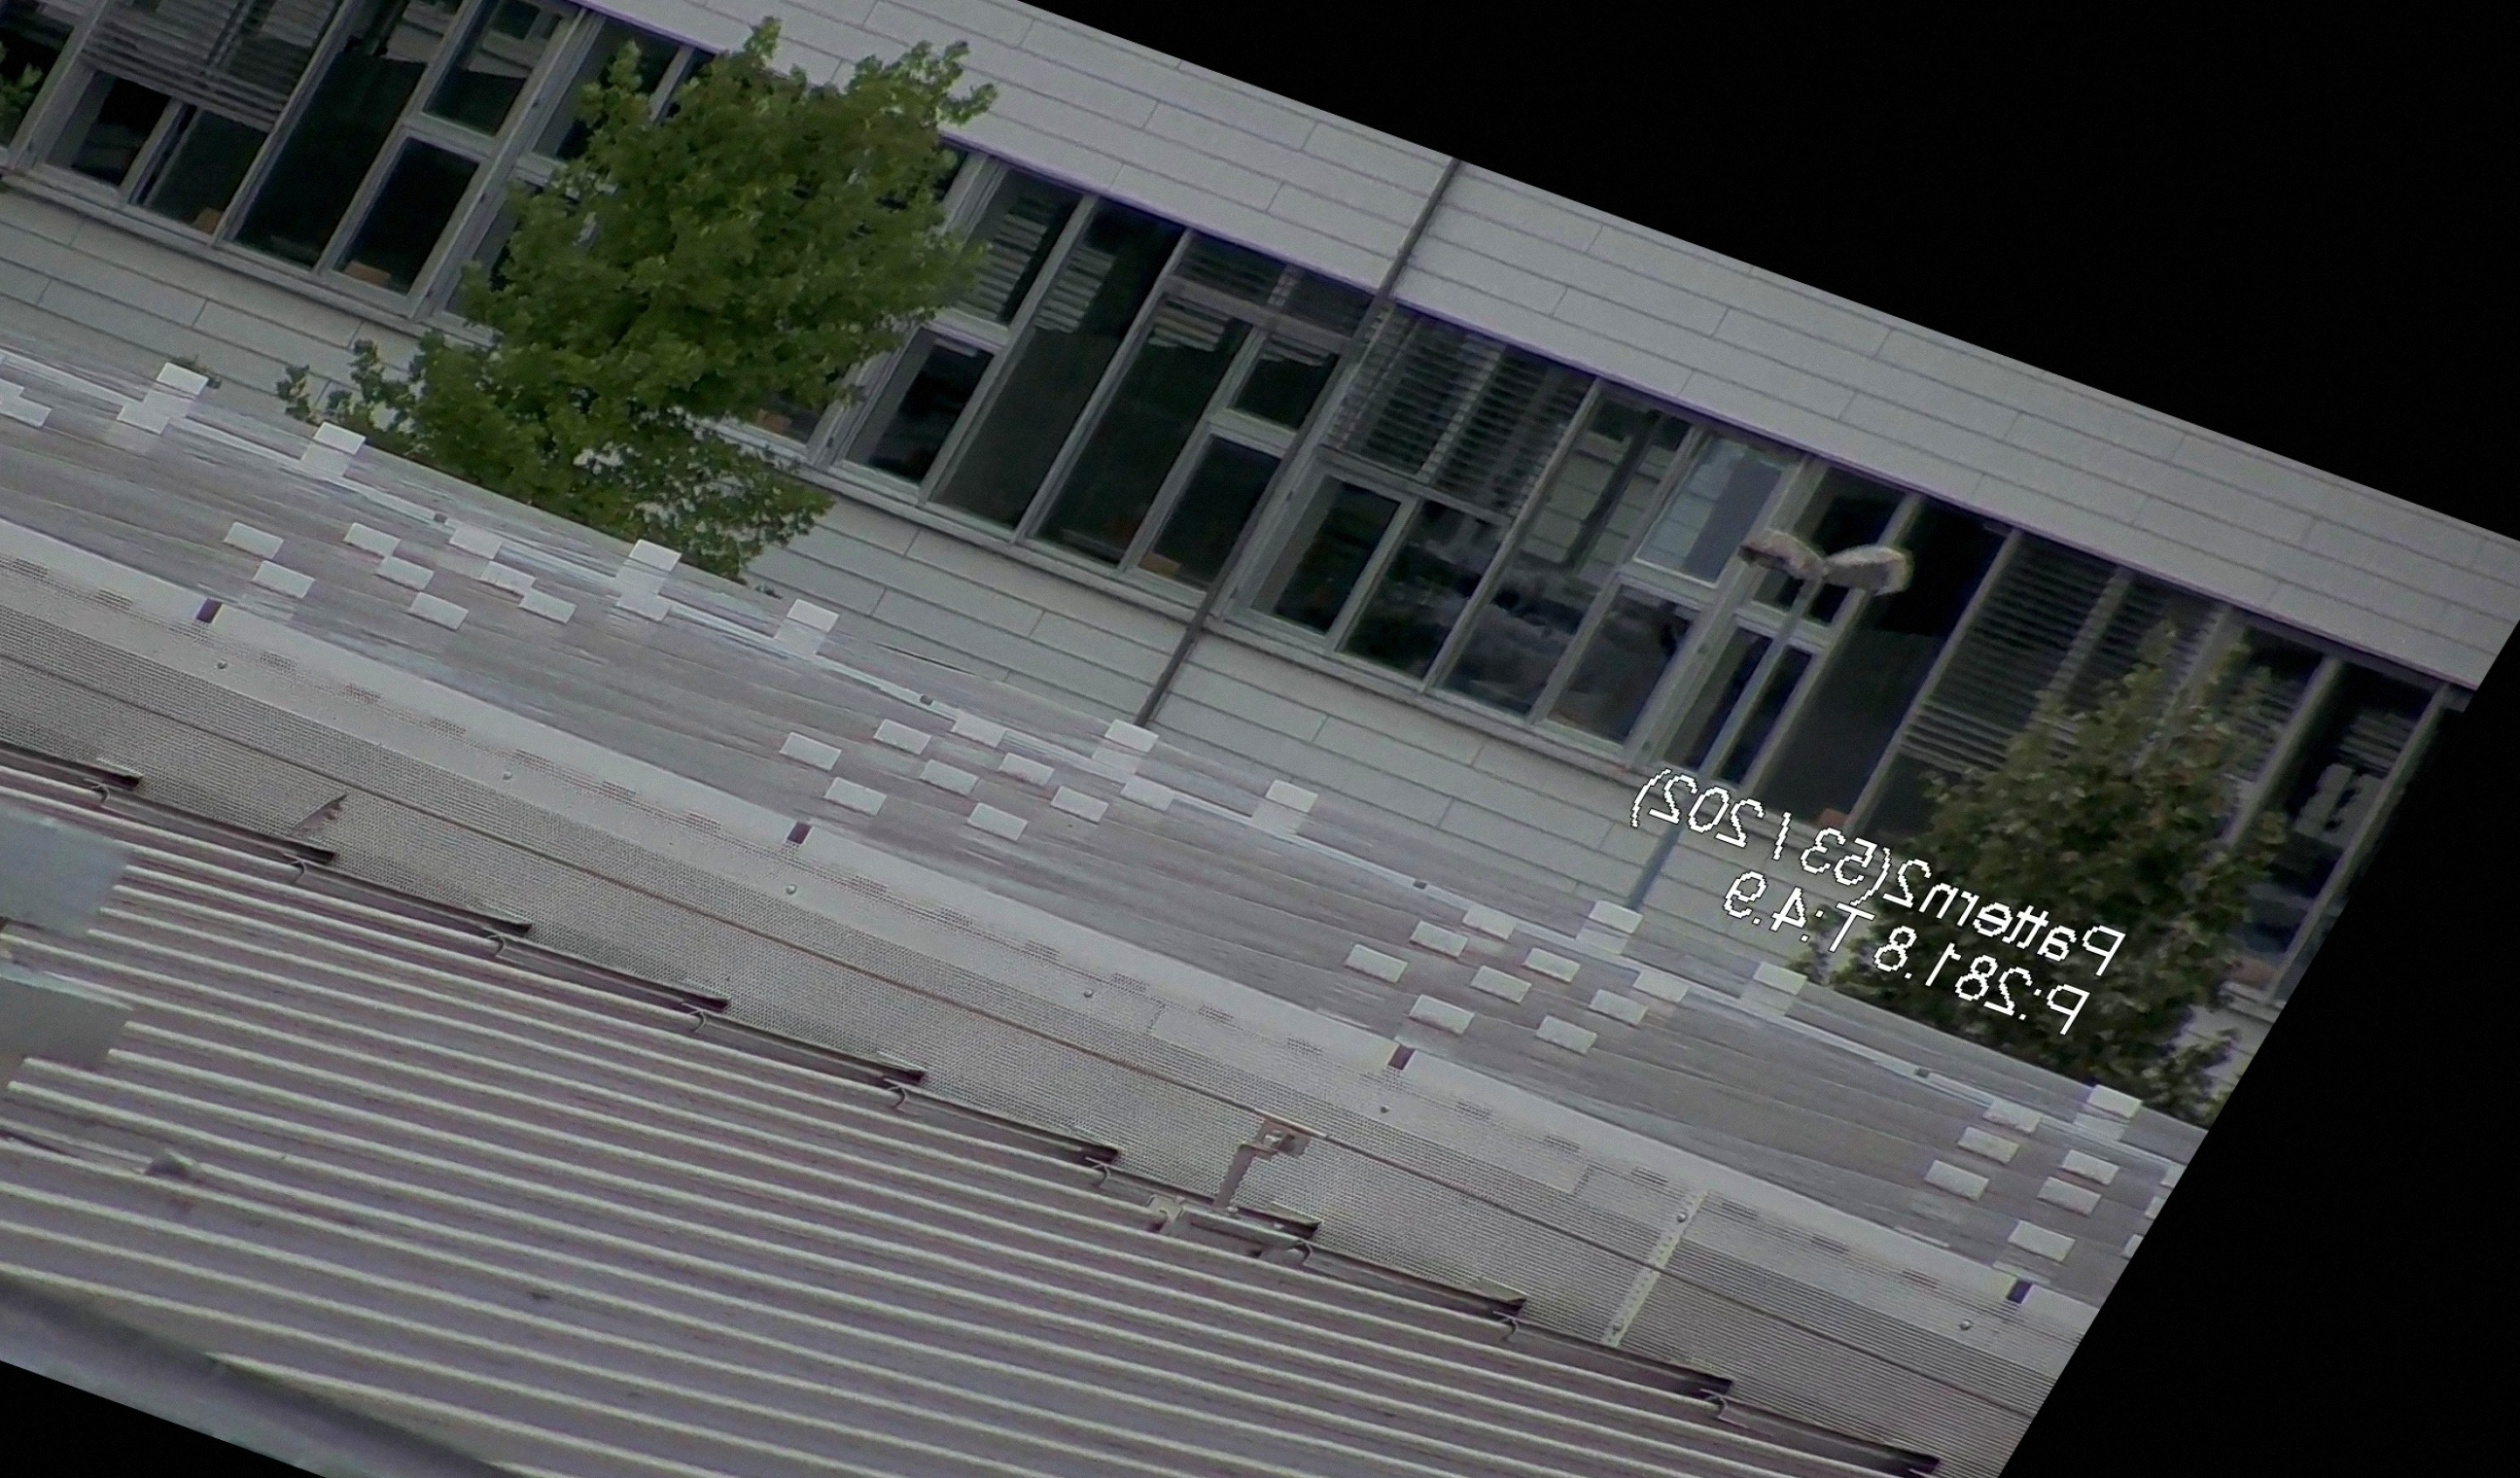Other: (253, 758, 375, 873)
